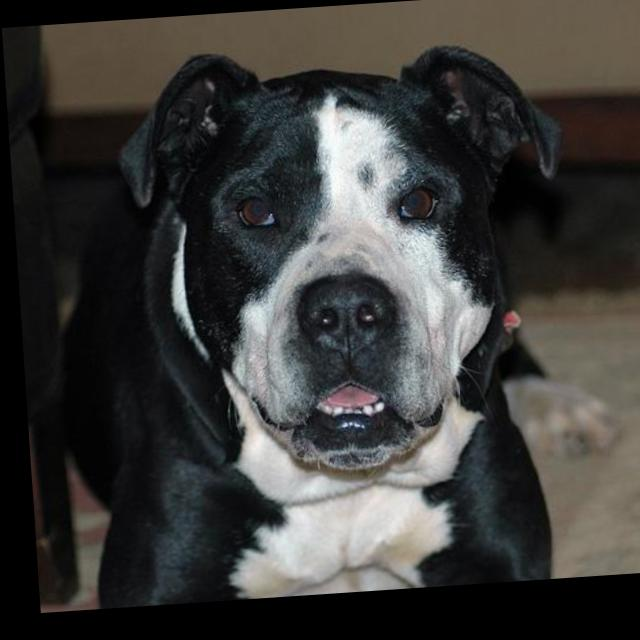amstaff: (6, 34, 621, 613)
